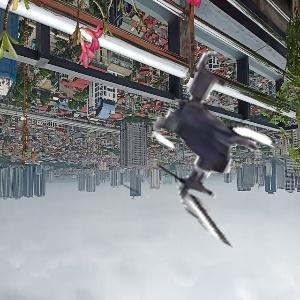drone: (123, 52, 296, 225)
